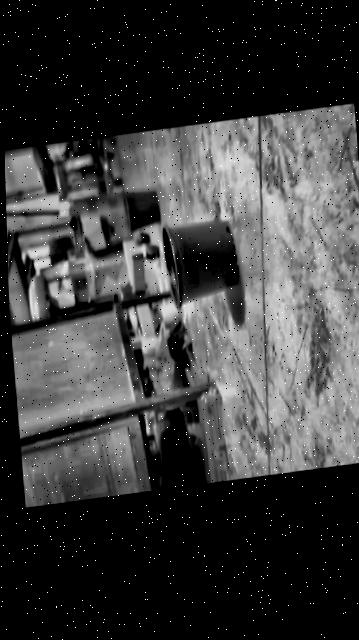pot: (158, 216, 238, 311), (119, 187, 158, 234)
